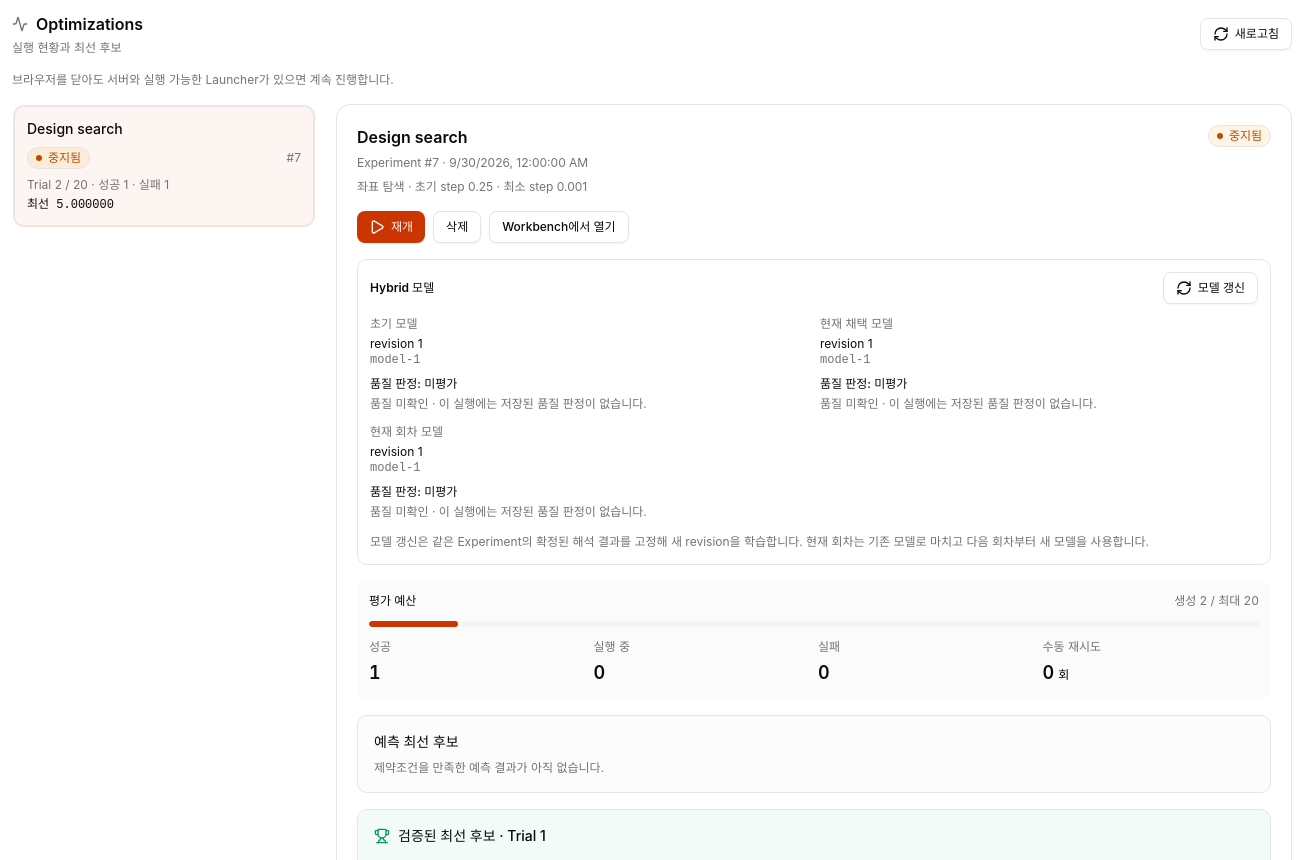
Test: shows initial and adopted models, disables a pending update, and keeps a lost update request idempotent
Expected: the text "초기 모델" is shown, [370, 316, 418, 331]
Expected: the text "현재 채택 모델" is shown, [820, 316, 893, 331]
Click the button "모델 갱신" at (1210, 288), box [1163, 272, 1258, 304]
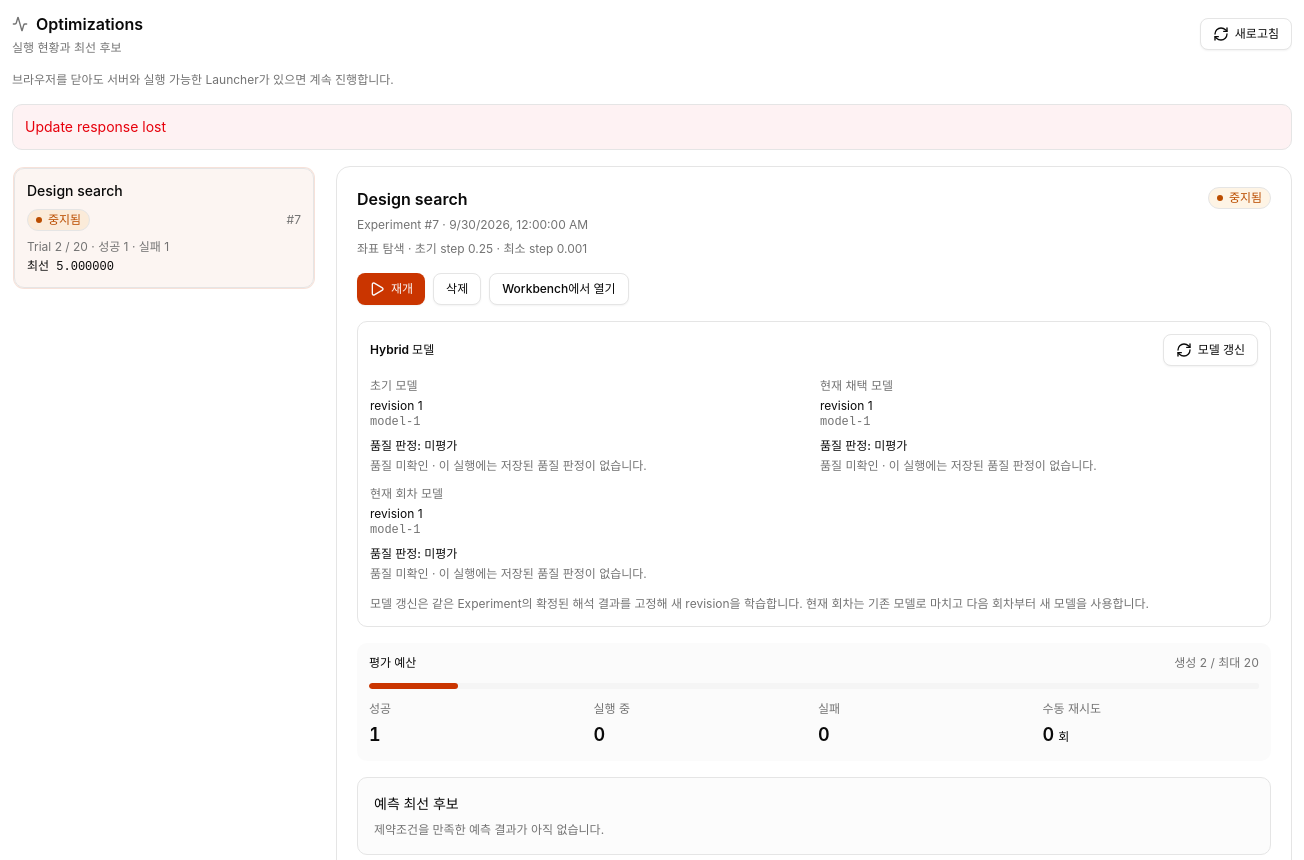
Result: the text "Update response lost" is shown at [12, 104, 1292, 150]
Click the button "모델 갱신" at (1210, 350), box [1163, 334, 1258, 366]
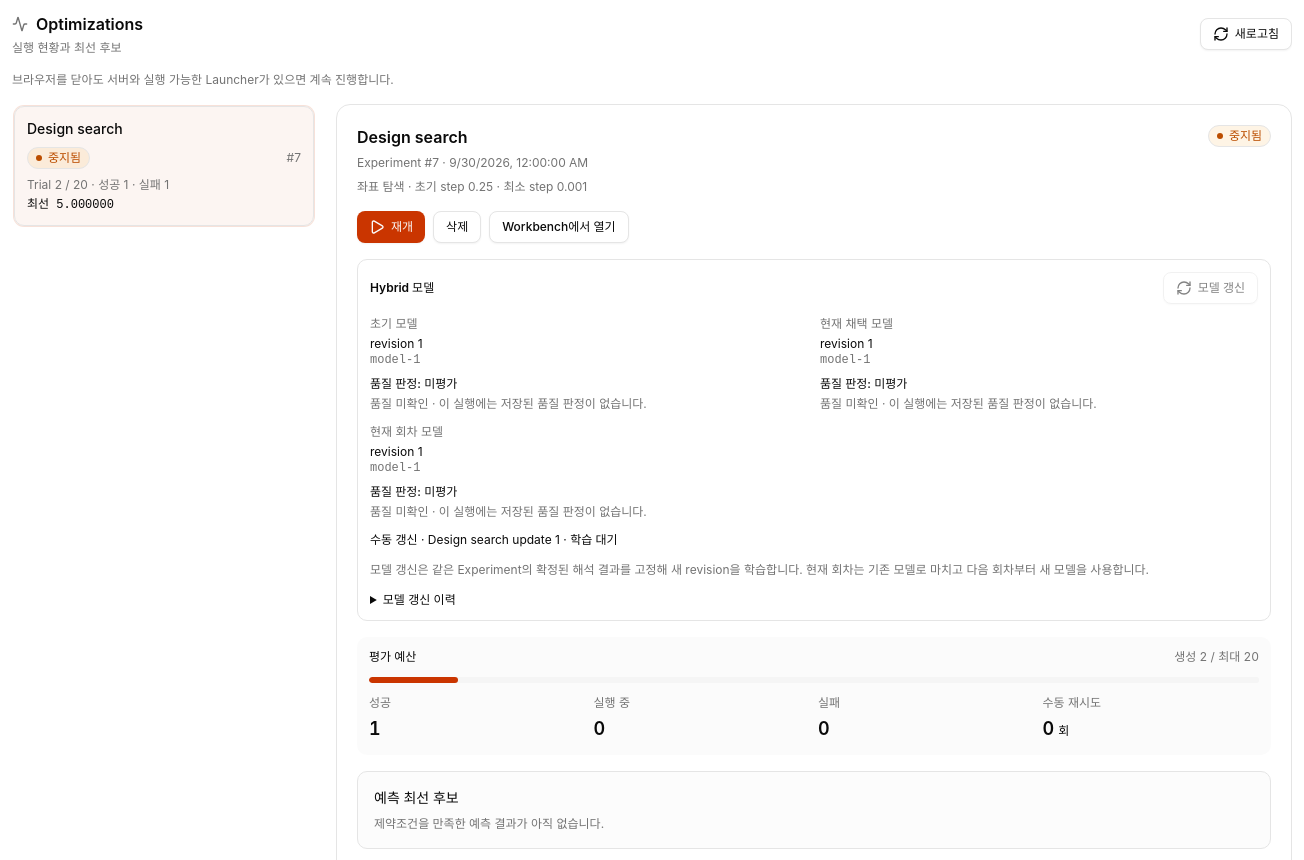
Result: the button "모델 갱신" is disabled at [1163, 272, 1258, 304]
Result: the text "수동 갱신 · Design search update 1 · 학습 대기" is shown at [370, 532, 618, 547]
